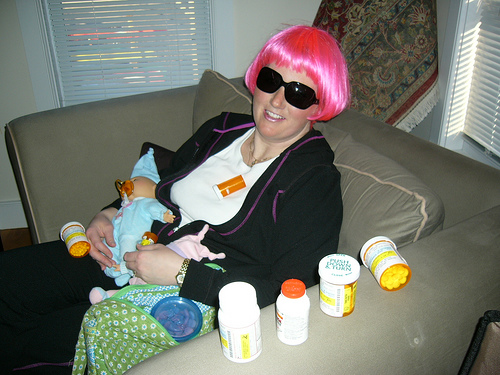pill bottle: (359, 234, 413, 295), (318, 250, 361, 322)
